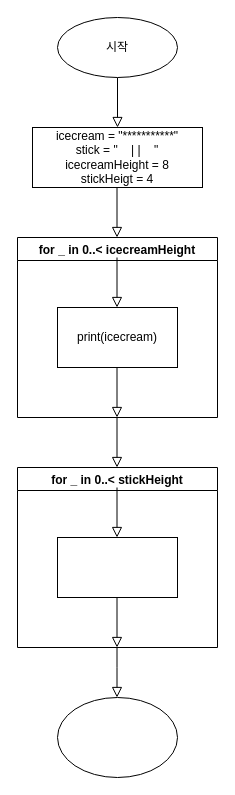
The diagram is 235 pixels wide and 795 high, and some of its shapes have lost their labels. Here are the shapes that lost their labels. From the top down, the centre of each, then its label:
At (x=117, y=567): "print(stick)".
At (x=117, y=737): "종료".
